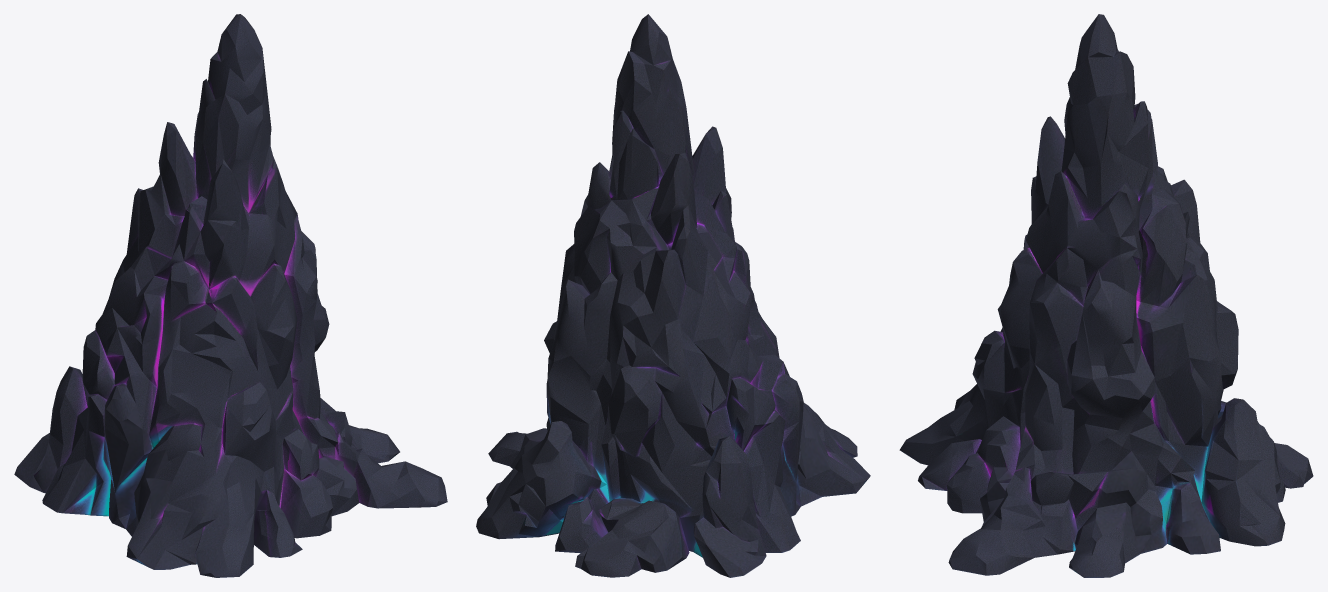
The model's file is stalactite.glb.
3 renders of one model, left to right at view 1: azimuth 30°, elevation 25°; view 2: azimuth 150°, elevation 25°; view 3: azimuth 270°, elevation 25°, orthographic. The views are drawn at different scales.
Bounding box in the file's own units: 1.36 × 1.9 × 1.46.
1 material, 1 textured.
